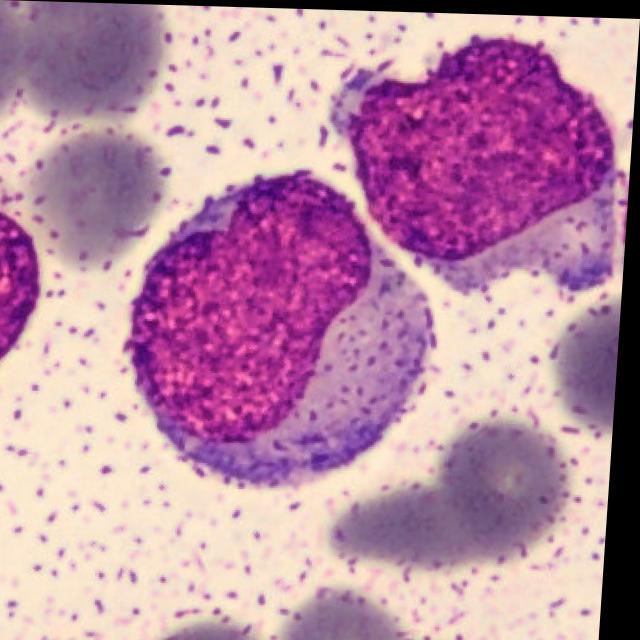Mieloblasto: (128, 168, 434, 479), (339, 30, 626, 297)
